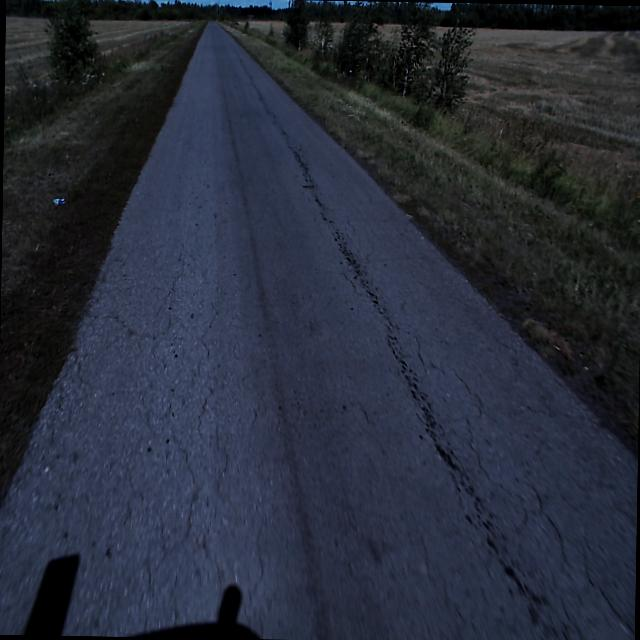road: (0, 20, 637, 640)
